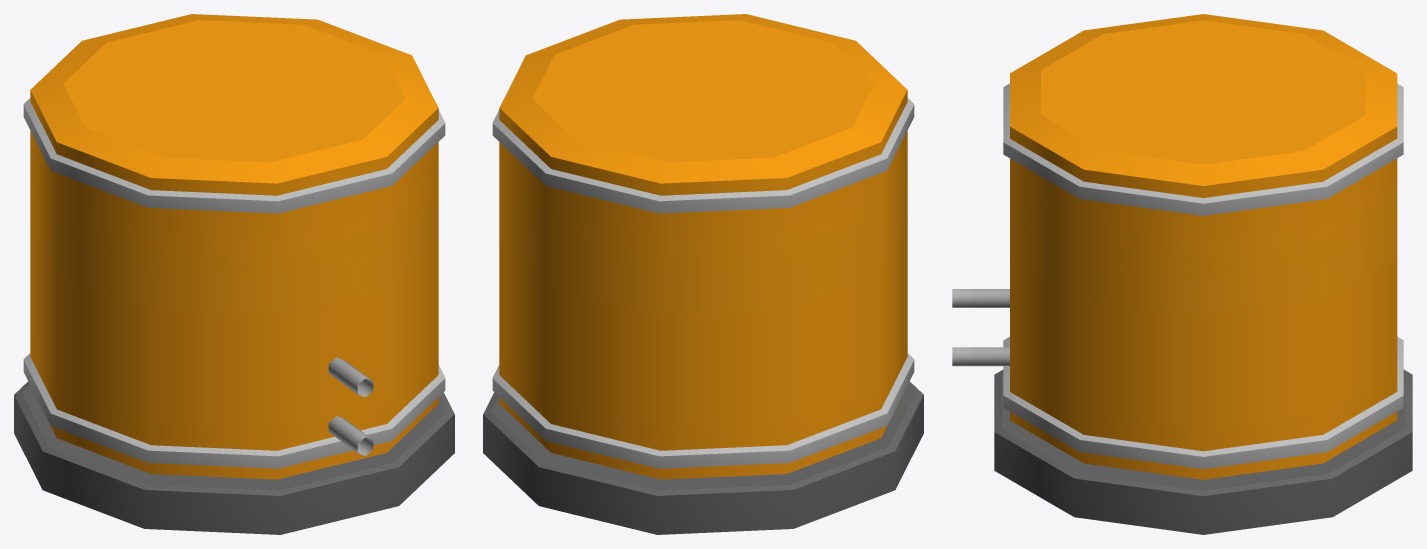
File: GasTank_2_H.fbx
3 renders of one model, left to right at view 1: azimuth 30°, elevation 25°; view 2: azimuth 150°, elevation 25°; view 3: azimuth 270°, elevation 25°, orthographic.
Visible parts, largest first — view 1: GasTank_2_H; view 2: GasTank_2_H; view 3: GasTank_2_H.
Part boxes in pixels (bbox=[...]): GasTank_2_H: bbox=[14, 14, 454, 534]; GasTank_2_H: bbox=[483, 14, 923, 534]; GasTank_2_H: bbox=[952, 14, 1412, 534].
Size of the model in its own units: 900 by 790 by 942.
